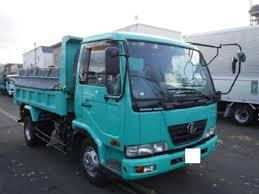truck: (14, 28, 220, 188)
